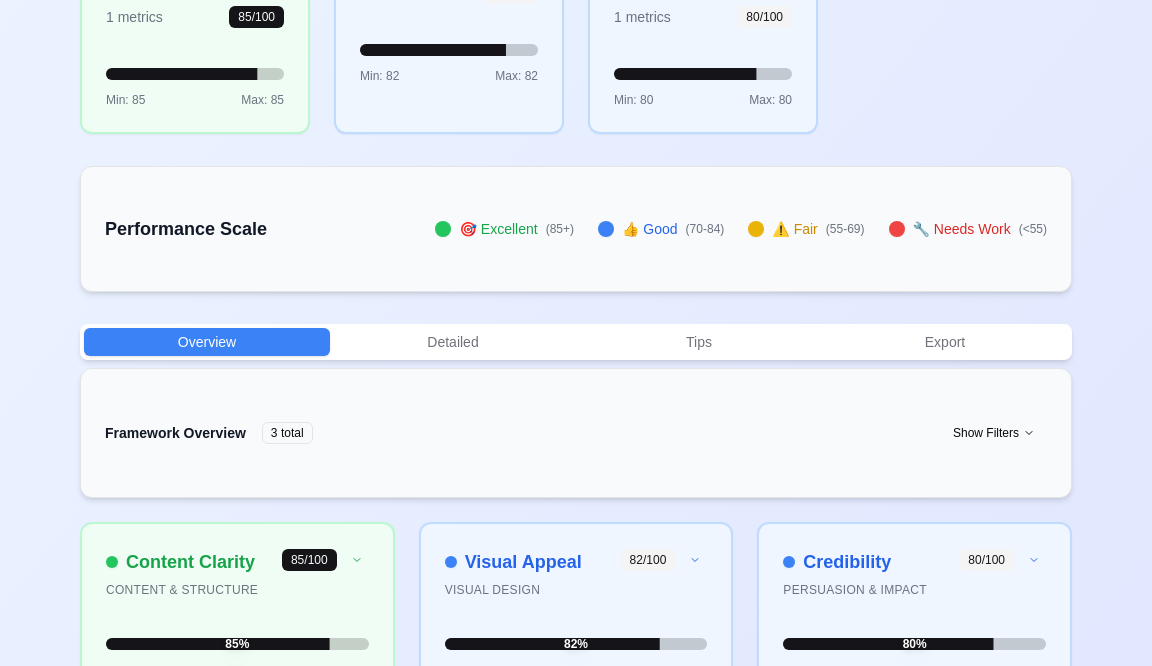
Scenario: ResultsDashboard › Tab Functionality › switches to Export tab when clicked
(page scrolled)
// Click on Export tab
Click the tab "Export" at (945, 342), box [822,328,1068,356]
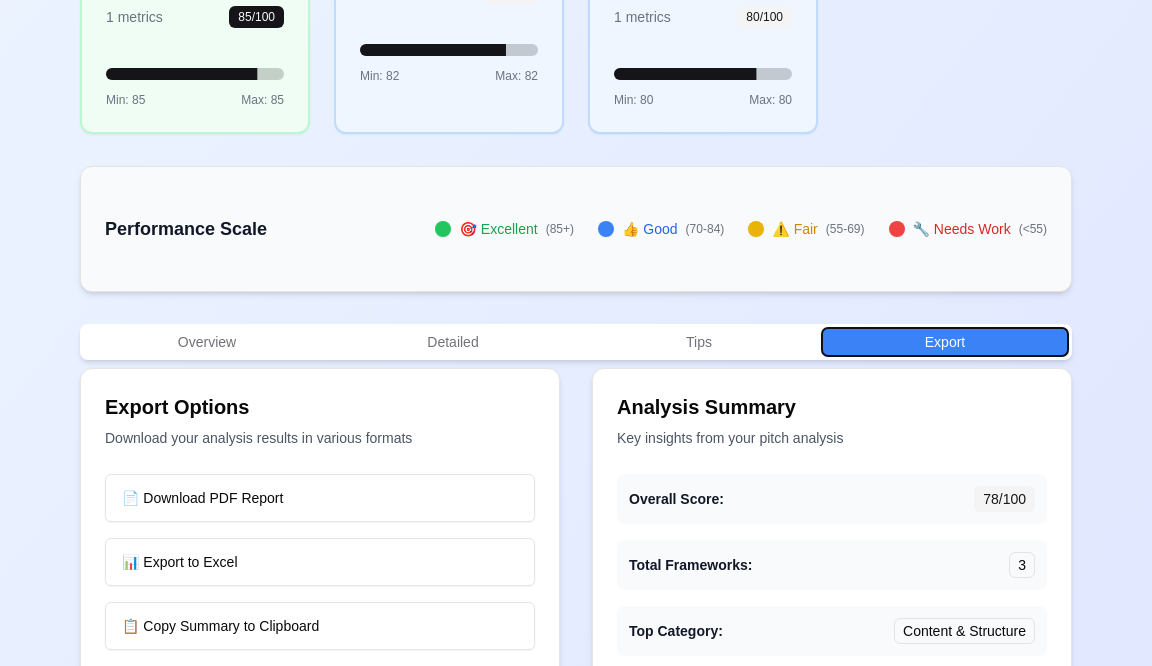
Check: the text "Export Options" is shown, box [105,396,250,418]
Check: the button "📄 Download PDF Report" is shown, box [105,474,535,522]
Check: the button "📊 Export to Excel" is shown, box [105,538,535,586]
